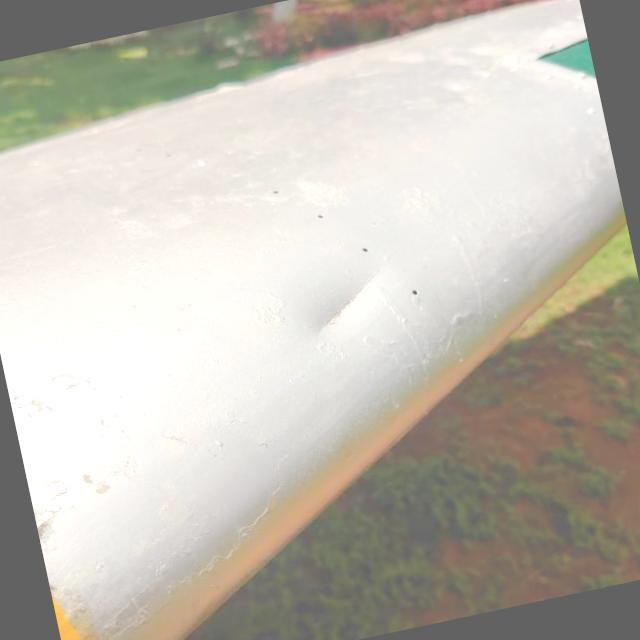dent: (263, 230, 417, 374)
